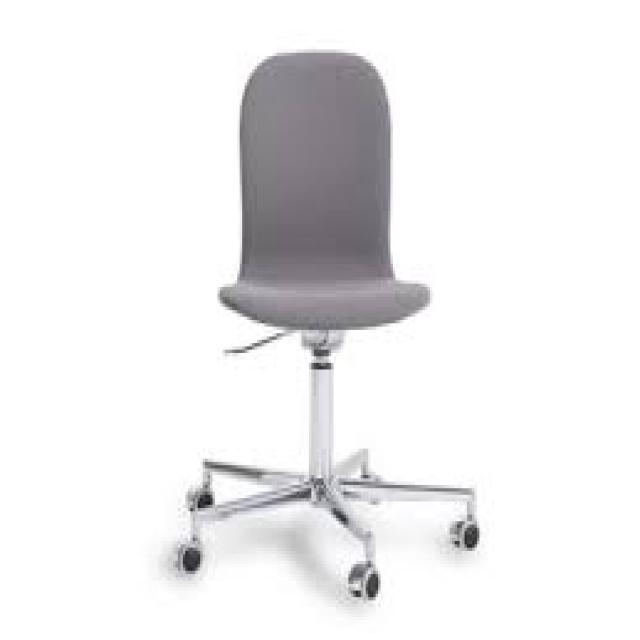chair: (155, 17, 507, 640)
